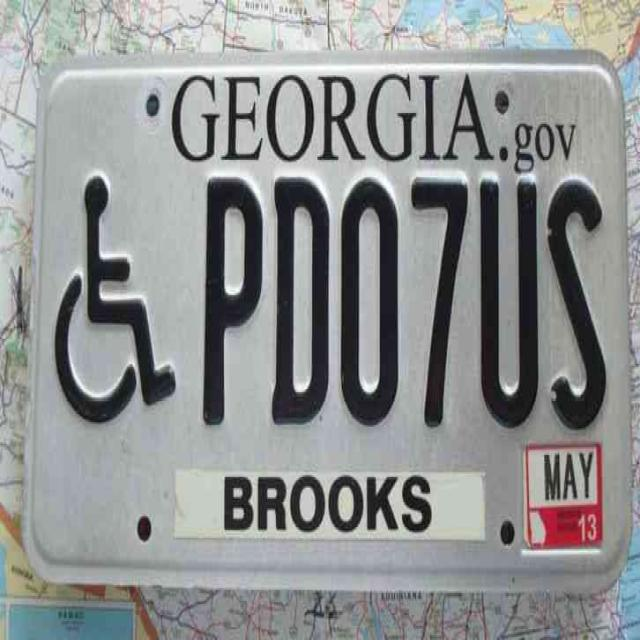symbol_of_access: (52, 159, 181, 438)
